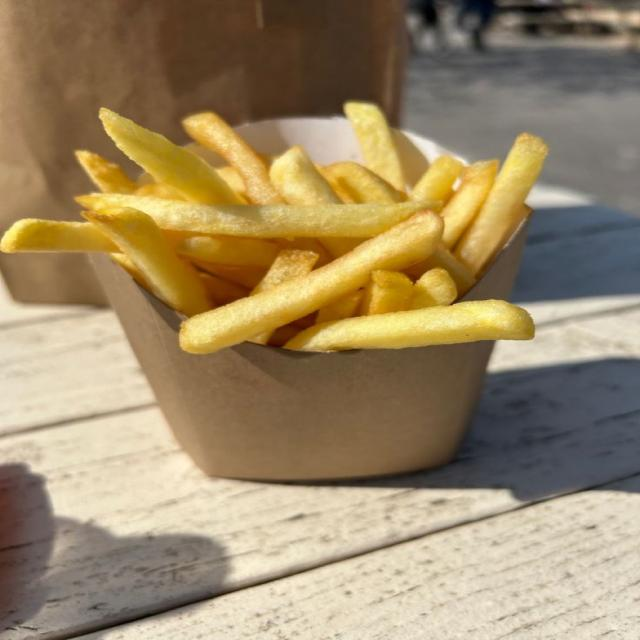potato fries: (0, 102, 546, 353), (180, 212, 443, 353), (76, 194, 431, 238), (83, 209, 212, 315), (100, 109, 243, 203), (455, 134, 548, 274), (286, 301, 534, 350), (183, 113, 282, 204), (344, 102, 405, 191), (441, 160, 498, 249), (270, 147, 341, 205), (269, 147, 341, 204), (0, 219, 118, 253), (405, 243, 475, 296), (324, 162, 406, 203), (175, 237, 279, 268), (251, 250, 318, 295), (251, 250, 318, 294), (75, 151, 137, 193), (360, 270, 413, 315), (410, 156, 463, 201), (191, 260, 265, 290), (409, 268, 457, 309), (274, 238, 333, 266), (199, 272, 248, 305), (316, 290, 364, 323), (110, 253, 150, 290), (216, 167, 246, 198), (134, 183, 186, 200)
